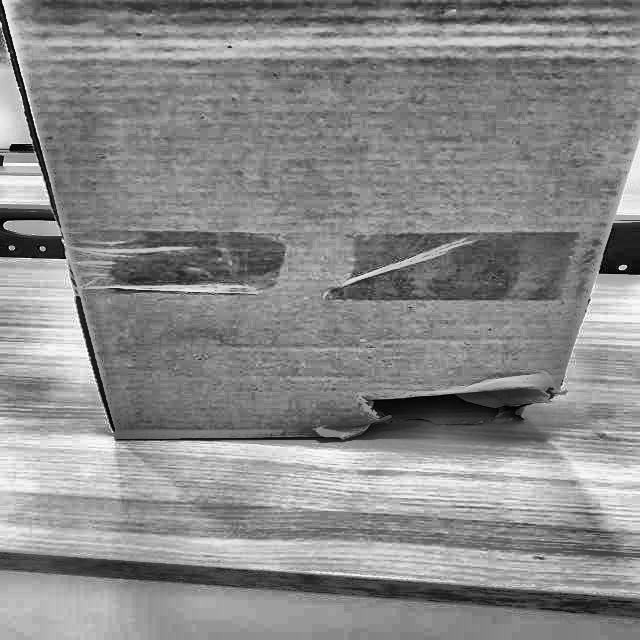box: (0, 0, 639, 445)
hole: (358, 370, 568, 443)
